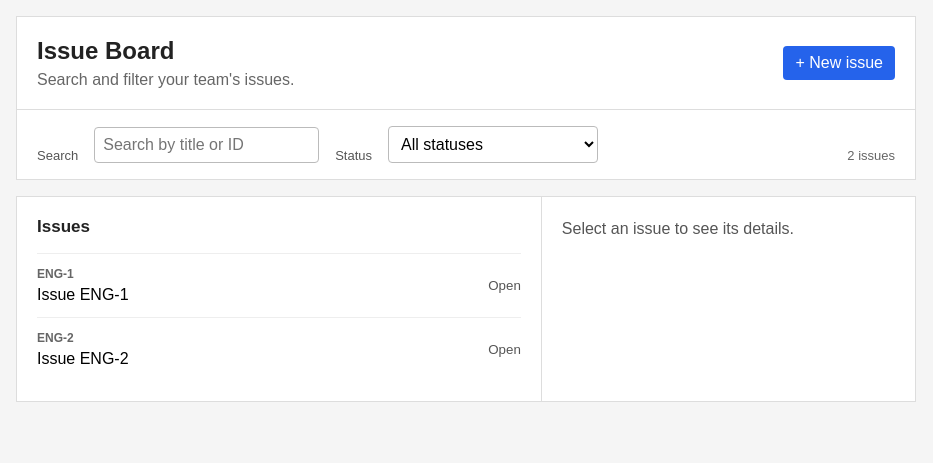
Test: IssueBoard › clears selection when the selected issue disappears
Click the button "ENG-2 Issue ENG-2 Open".
click(55, 338)  # box [37,318,521,381]
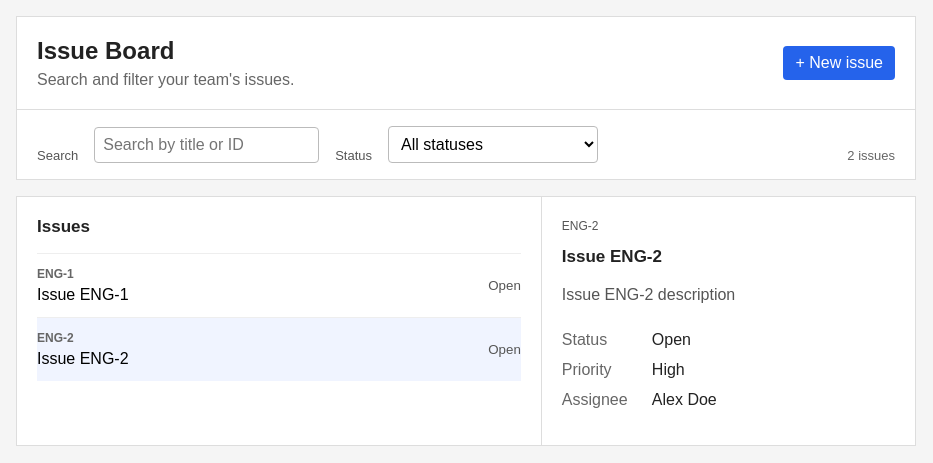
Select "Closed" in the dropdown labelled "Status" at (493, 144), box [388,126,598,163]
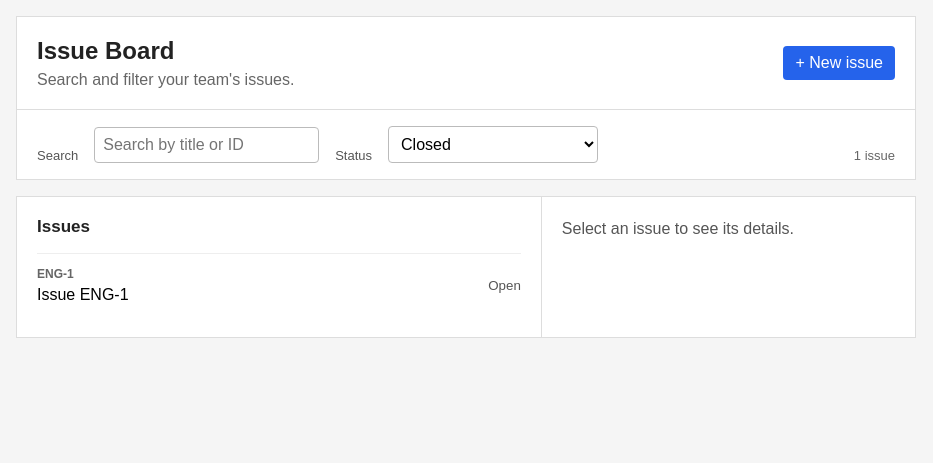
Expected: the text "Select an issue to see its details." is shown, [562,220,794,237]
Expected: the button "Issue ENG-2" is gone
